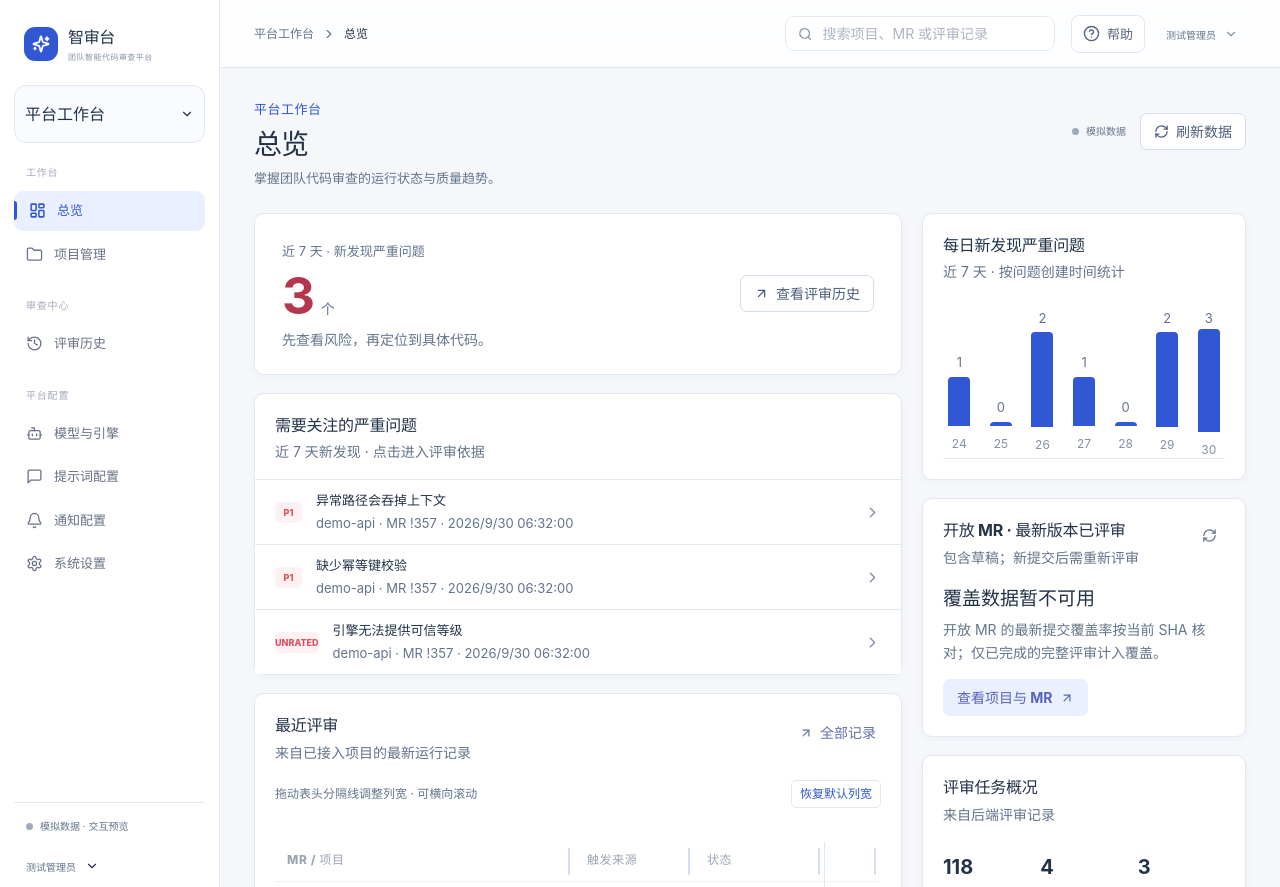
Scenario: dismisses the project switcher when clicking the page outside it
Click the button with aria-label "切换项目": point(110, 114) [14,85,205,143]
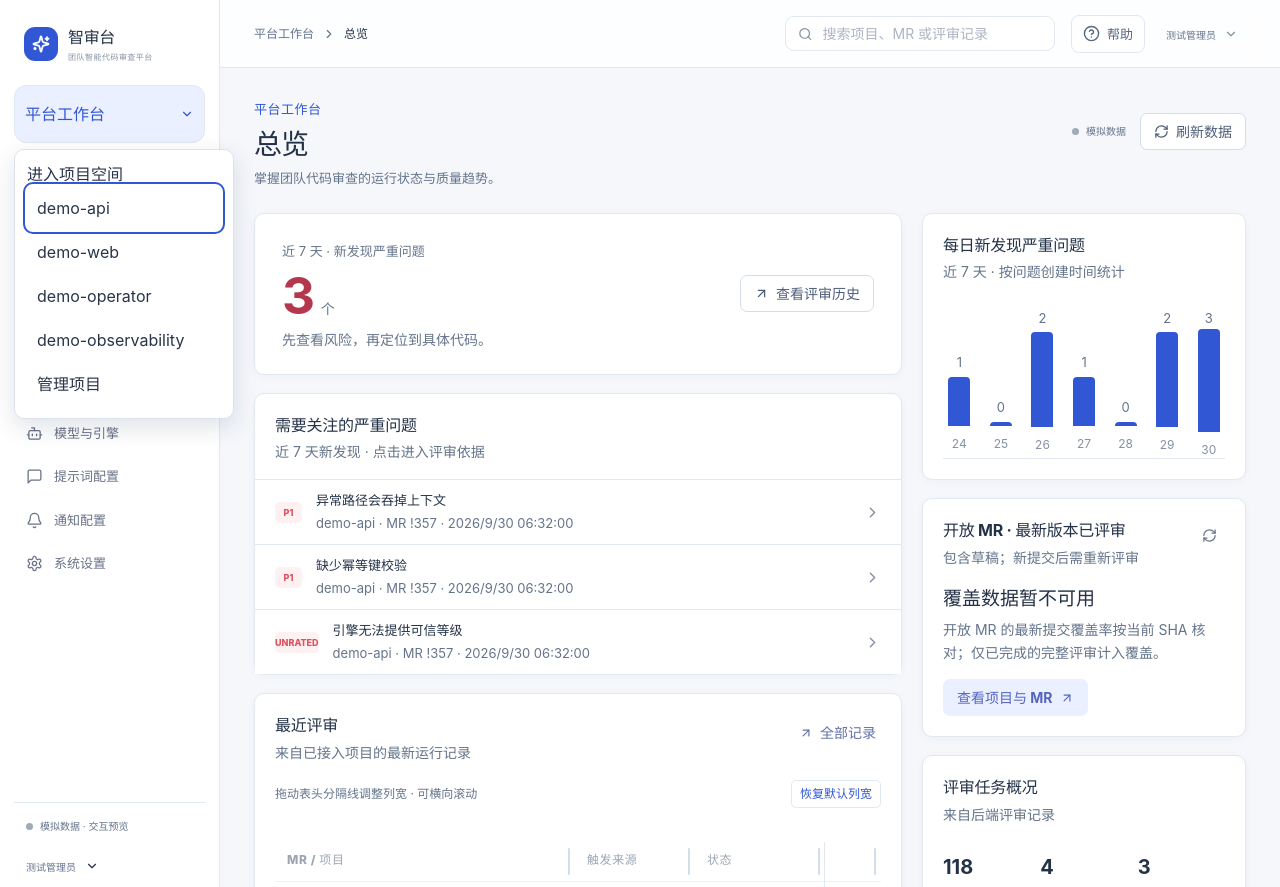
Result: the button "管理项目" is shown at [27,362,221,406]
Click the heading "总览": point(281, 144) [254,126,308,160]
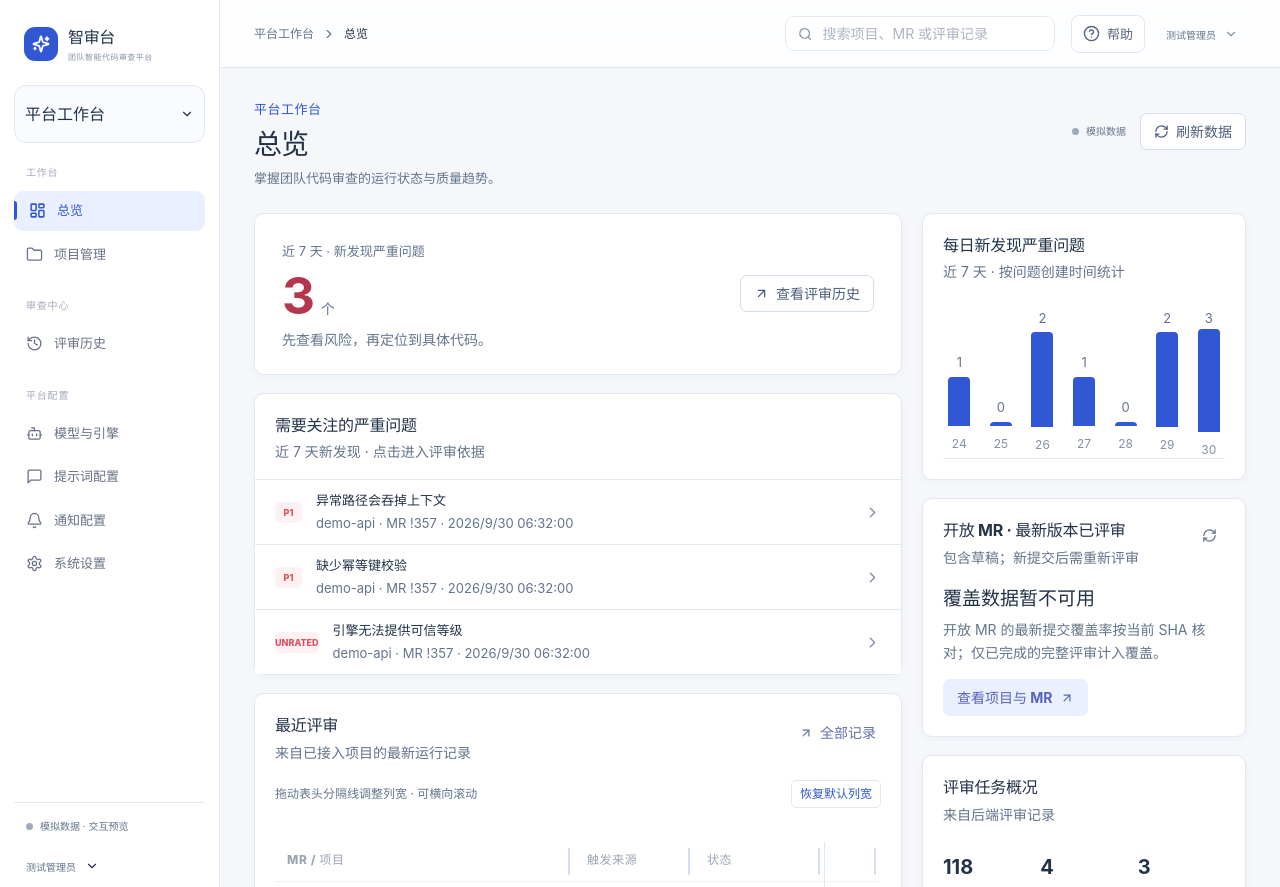
Result: the button "管理项目" is gone
